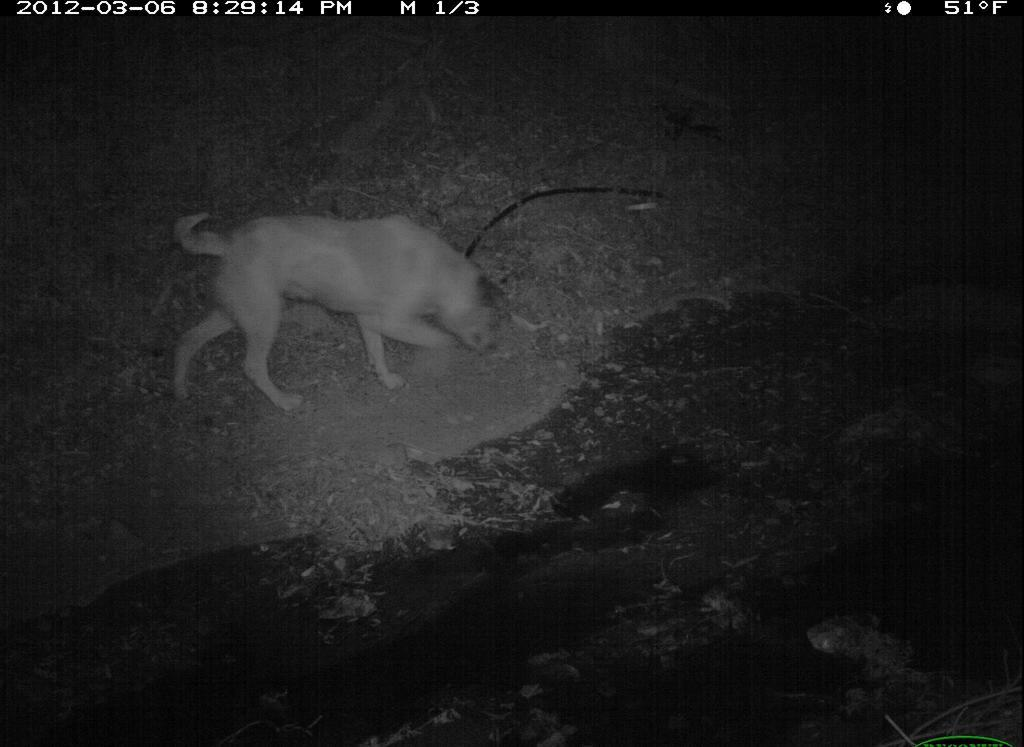dog: (159, 196, 518, 424)
